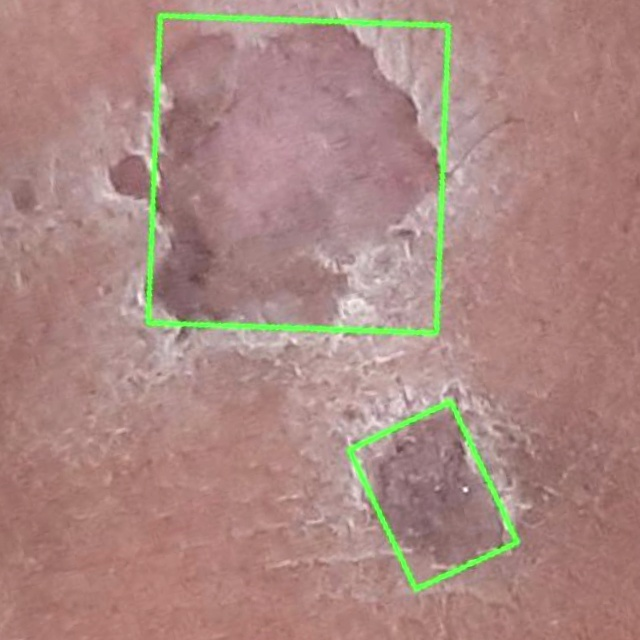Contact Dermatitis: (147, 15, 447, 332), (348, 400, 516, 589)
